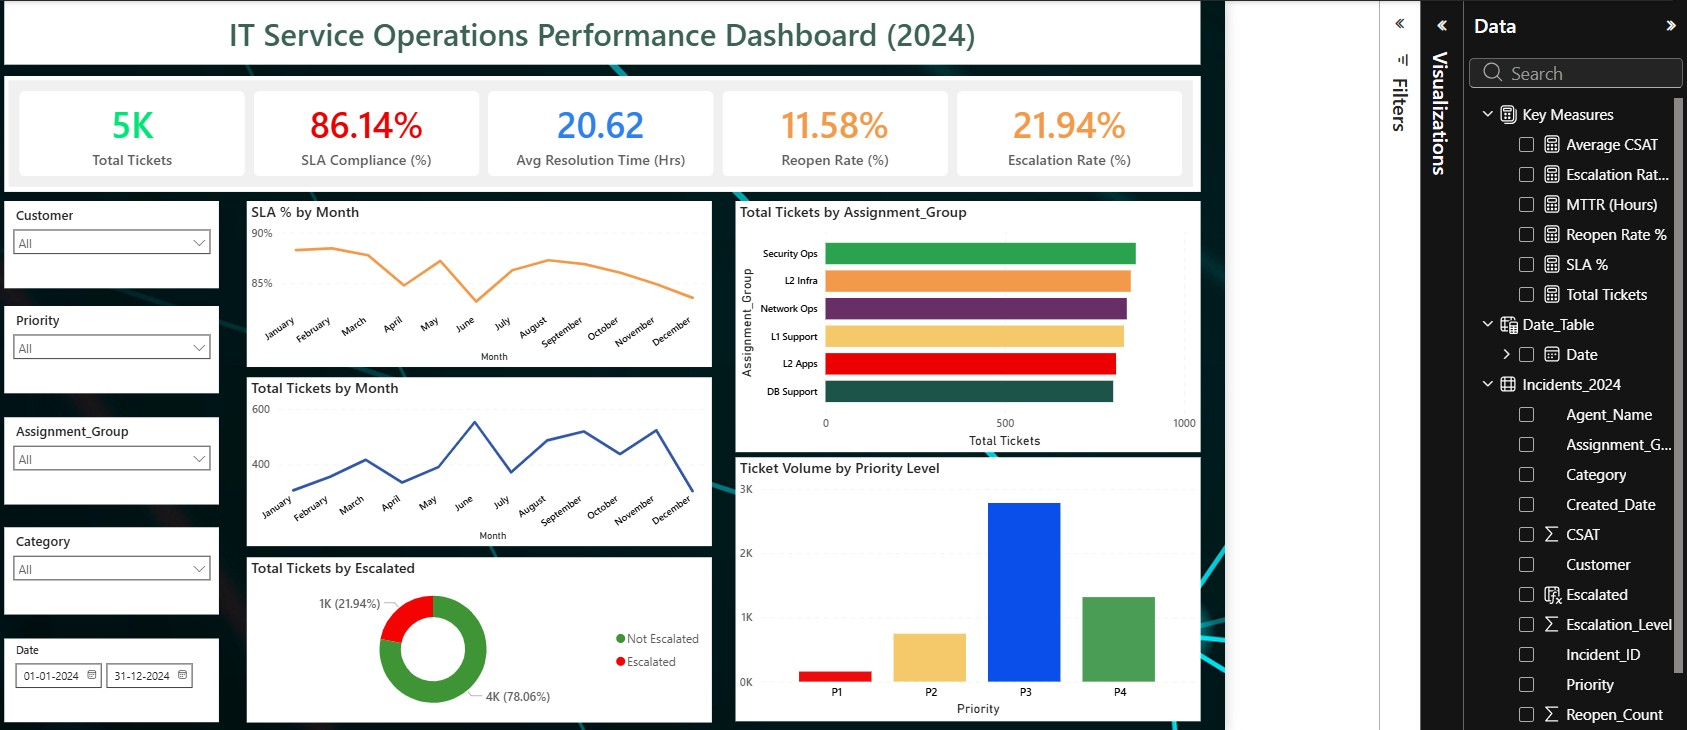

This screenshot's page, from the dashboard's own definition file:
{"tool":"powerbi","page":{"name":"Page 1","canvas":[1400,820],"ordinal":0},"visuals":[{"type":"lineChart","fields":{"Category":["Date_Table.Date.Variation.Date Hierarchy.Year","Date_Table.Date.Variation.Date Hierarchy.Quarter","Date_Table.Date.Variation.Date Hierarchy.Month","Date_Table.Date.Variation.Date Hierarchy.Day"],"Y":["Key Measures.SLA %"]},"box":[306,223.6,519.8,185.9],"z":0},{"type":"lineChart","fields":{"Category":["Date_Table.Date.Variation.Date Hierarchy.Year","Date_Table.Date.Variation.Date Hierarchy.Quarter","Date_Table.Date.Variation.Date Hierarchy.Month","Date_Table.Date.Variation.Date Hierarchy.Day"],"Y":["Key Measures.Total Tickets"]},"box":[306,420.6,519.8,188.7],"z":1000},{"type":"clusteredColumnChart","title":"Ticket Volume by Priority Level","fields":{"Y":["Key Measures.Total Tickets"],"Category":["Priority_Dim.Priority"]},"box":[852.4,510.1,519.8,294.9],"z":2000},{"type":"clusteredBarChart","fields":{"Category":["Incidents_2024.Assignment_Group"],"Y":["Key Measures.Total Tickets"]},"box":[852.4,223.6,519.8,280.9],"z":3000},{"type":"donutChart","fields":{"Category":["Incidents_2024.Escalated","Incidents_2024.Escalation_Level"],"Y":["Key Measures.Total Tickets"]},"box":[306,621.9,519.8,184.5],"z":4000},{"type":"slicer","fields":{"Values":["Incidents_2024.Priority"]},"box":[34.9,341,240.4,97.8],"z":5000},{"type":"slicer","fields":{"Values":["Date_Table.Date"]},"box":[34.9,712.7,240.4,93.6],"z":6000},{"type":"slicer","fields":{"Values":["Incidents_2024.Customer"]},"box":[34.9,223.6,240.4,97.8],"z":7000},{"type":"slicer","fields":{"Values":["Incidents_2024.Assignment_Group"]},"box":[34.9,465.3,240.4,97.8],"z":8000},{"type":"slicer","fields":{"Values":["Incidents_2024.Category"]},"box":[34.9,588.3,240.4,97.8],"z":9000},{"type":"cardVisual","fields":{"Data":["Key Measures.Total Tickets","Key Measures.SLA %","Key Measures.MTTR (Hours)","Key Measures.Reopen Rate %","Key Measures.Escalation Rate %"]},"box":[34.9,83.8,1337.3,130],"z":10001},{"type":"shape","box":[34.9,0,1337.3,71.3],"z":10002}]}

Visuals, with their boxes in screenshot pixels (x1, y1, x2, y2):
lineChart - Date_Table.Date.Variation.Date Hierarchy.Year x Date_Table.Date.Variation.Date Hierarchy.Quarter: bbox=(247, 195, 720, 364)
lineChart - Date_Table.Date.Variation.Date Hierarchy.Year x Date_Table.Date.Variation.Date Hierarchy.Quarter: bbox=(247, 374, 720, 545)
"Ticket Volume by Priority Level" clusteredColumnChart: bbox=(744, 455, 1217, 723)
clusteredBarChart - Incidents_2024.Assignment_Group x Key Measures.Total Tickets: bbox=(744, 195, 1217, 450)
donutChart - Incidents_2024.Escalated x Incidents_2024.Escalation_Level: bbox=(247, 557, 720, 724)
slicer - Incidents_2024.Priority: bbox=(1, 301, 220, 390)
slicer - Date_Table.Date: bbox=(1, 639, 220, 724)
slicer - Incidents_2024.Customer: bbox=(1, 195, 220, 283)
slicer - Incidents_2024.Assignment_Group: bbox=(1, 414, 220, 503)
slicer - Incidents_2024.Category: bbox=(1, 526, 220, 615)
cardVisual - Key Measures.Total Tickets x Key Measures.SLA %: bbox=(1, 67, 1217, 186)
shape: bbox=(1, 0, 1217, 56)
